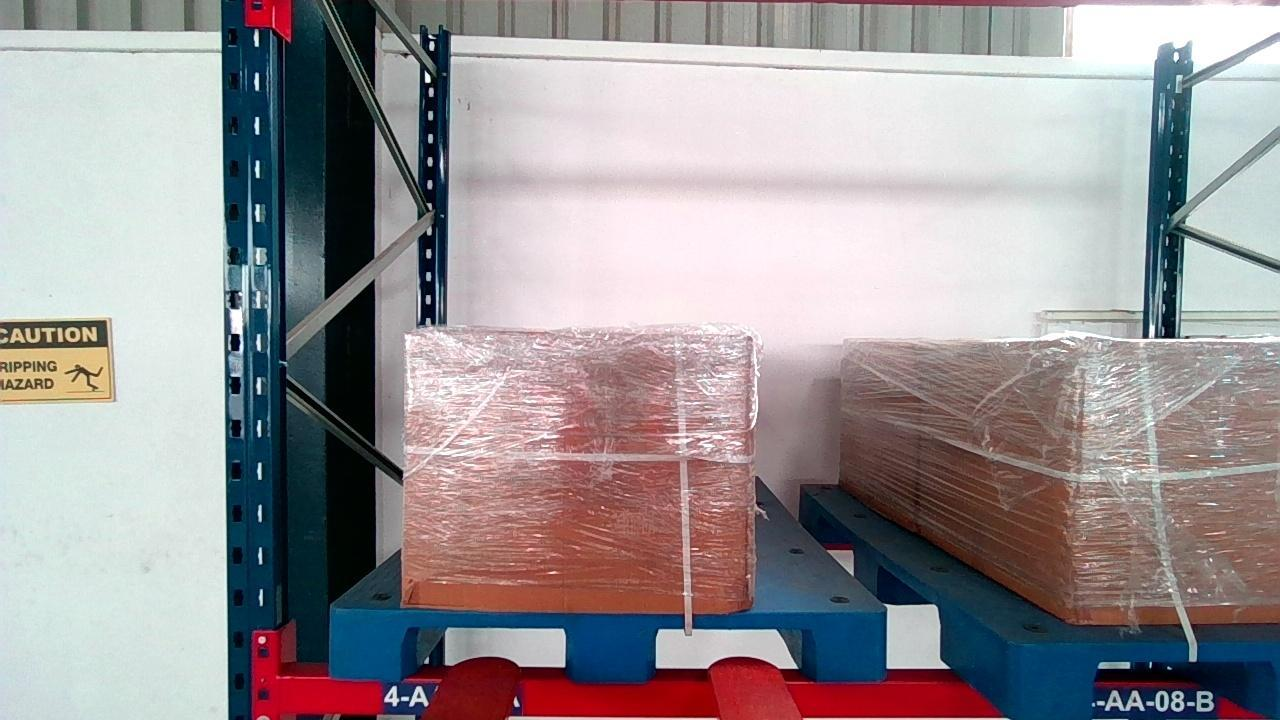h_rack: (281, 676, 1256, 718)
small_pallet: (327, 609, 882, 685), (1015, 644, 1279, 717)
